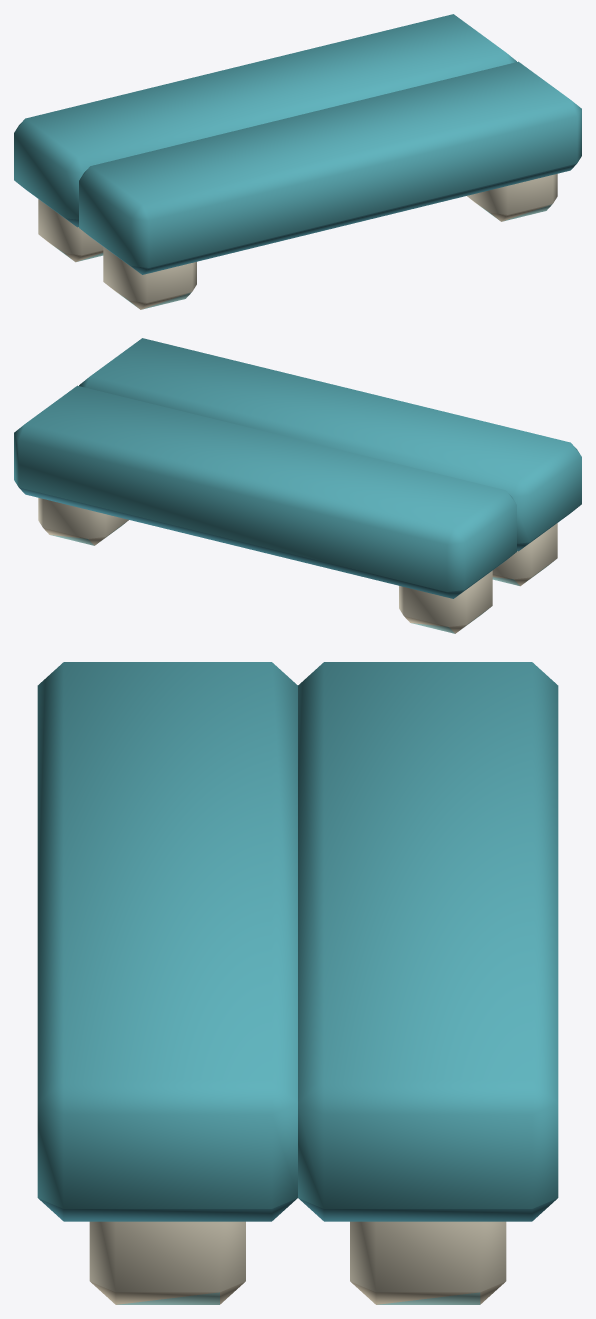
File: itch_tiny_homely_house_bench_b.glb
3 views of the same model, one above another, from view 1: azimuth 30°, elevation 25°; view 2: azimuth 150°, elevation 25°; view 3: azimuth 270°, elevation 25° (orthographic). The views are drawn at different scales.
Parts seen in each view (by area): view 1: bench_B; view 2: bench_B; view 3: bench_B.
Boxes of the visible parts, bbox=[...] form: bench_B: bbox=[14, 14, 581, 309]; bench_B: bbox=[14, 338, 581, 633]; bench_B: bbox=[37, 662, 558, 1304].
Size of the model in its own units: 0.96 by 0.24 by 0.48.
